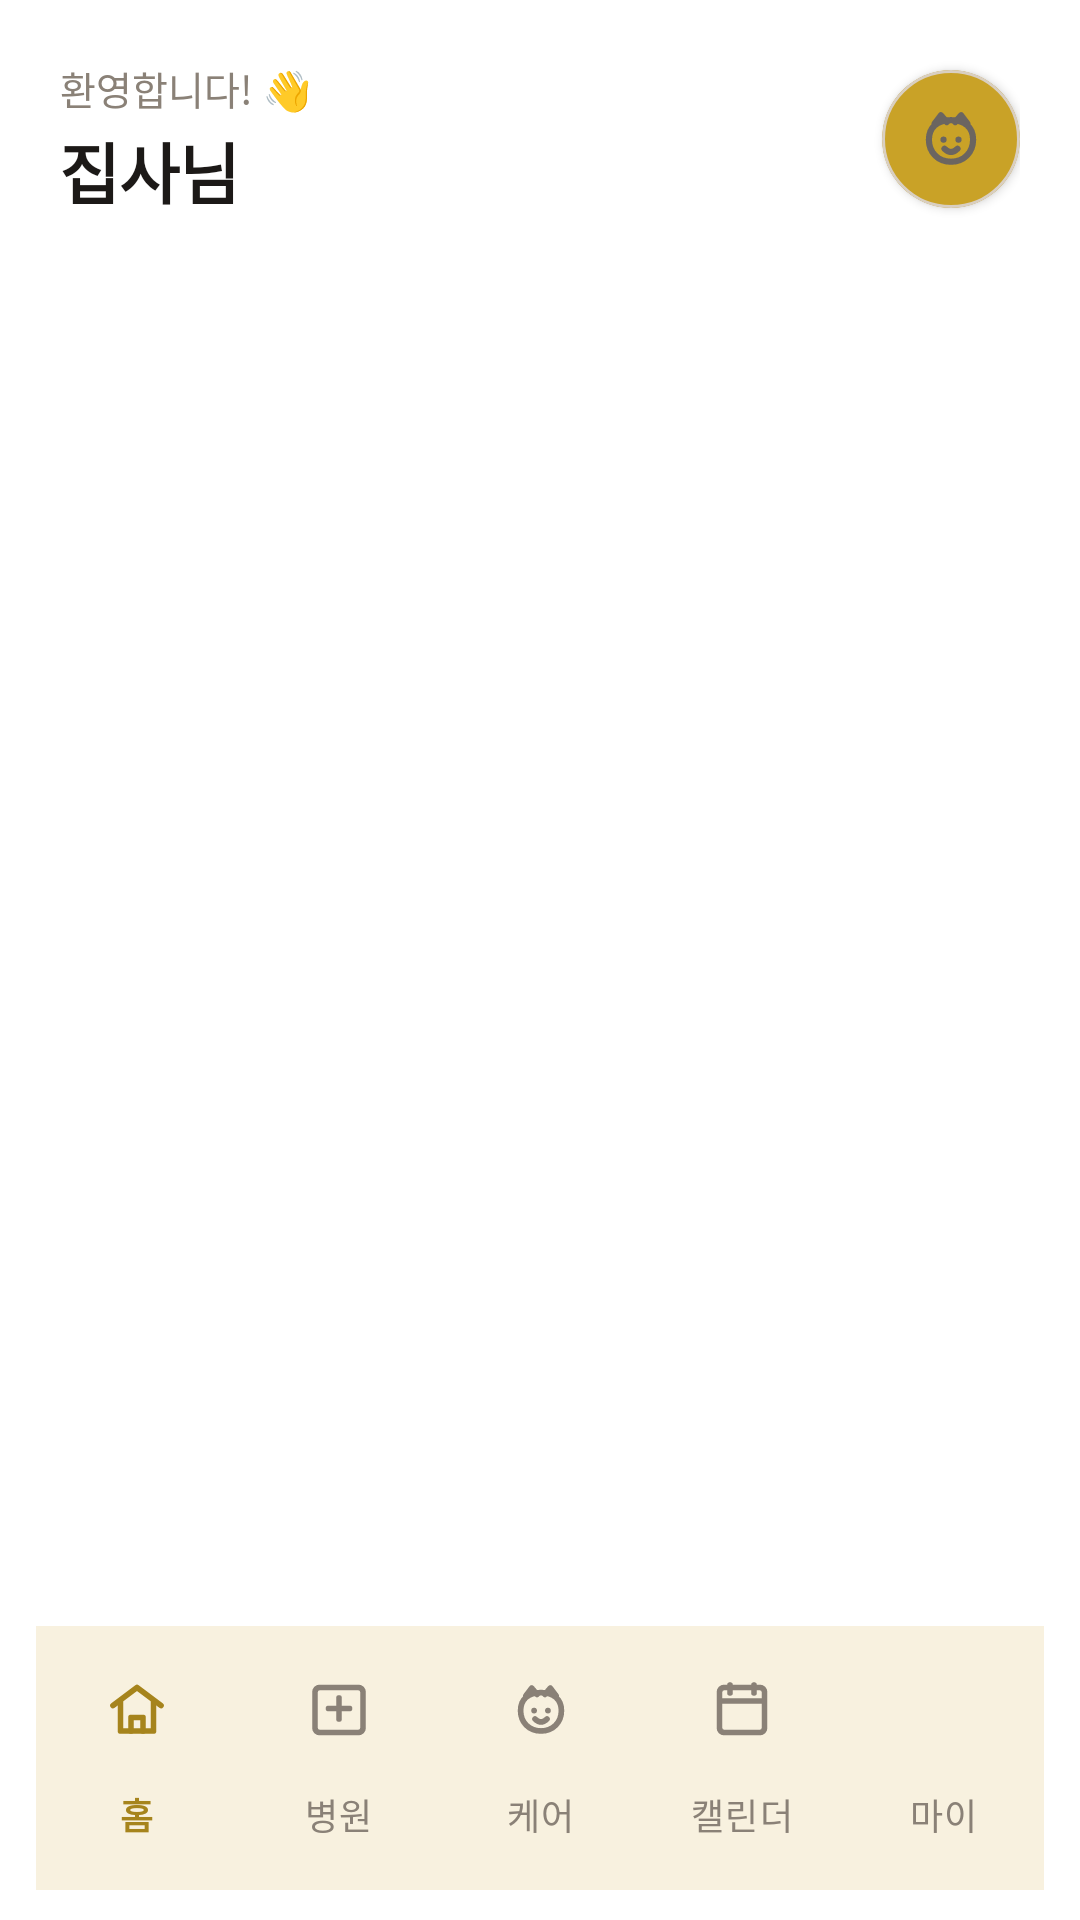

Named icons in this screenshot (1080w x 1920h) and their bounding boxes, (x1, y1, x2, y2):
cat: (882, 70, 1020, 208)
